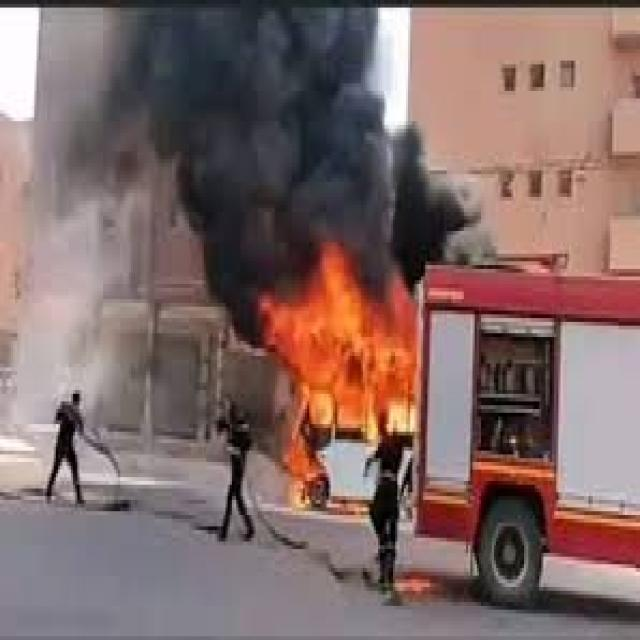pompier: (417, 258, 640, 602)
